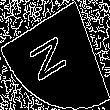N_NE: (31, 25, 79, 85)
